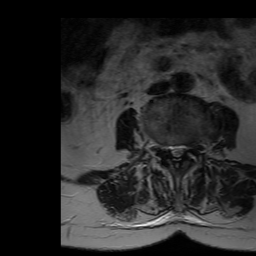CCS_stenosis: (173, 134, 180, 172)
LFS_severe_stenosis: (187, 134, 194, 157)
LLS_stenosis: (180, 134, 187, 162)
RFS_stenosis: (159, 135, 166, 159)
RLS_stenosis: (166, 135, 173, 159)
